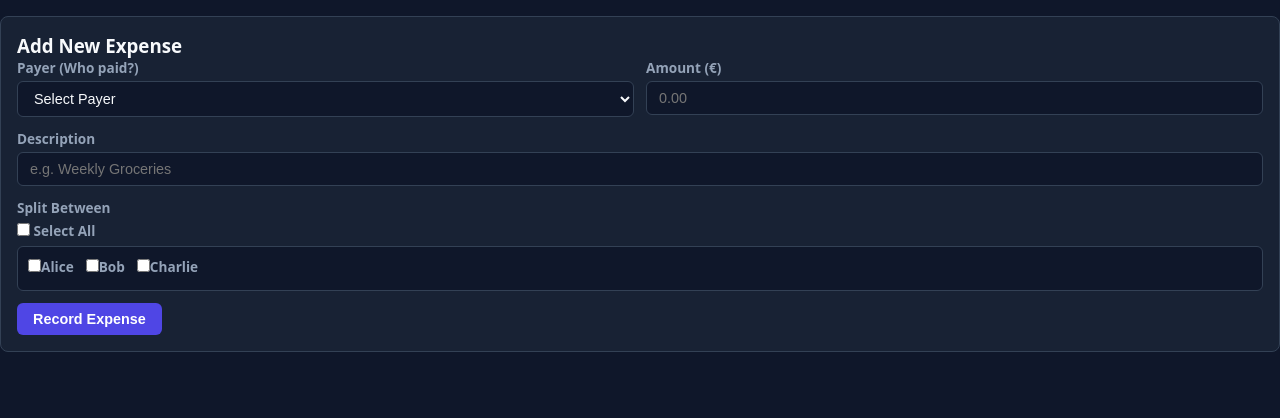
Test: AddExpenseForm Component › validates required fields and shows error when submitted empty
Click the button "Record Expense" at (89, 319), box left=17, top=303, right=162, bottom=335
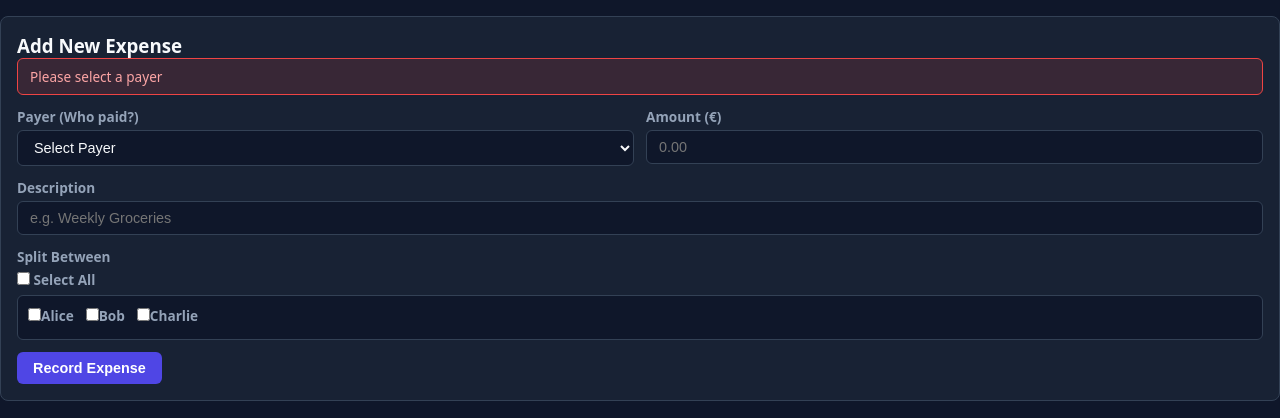
Now the text with test id "form-error" reads "Please select a payer", box left=30, top=67, right=162, bottom=86
